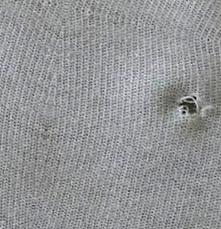hole: (171, 91, 208, 121)
